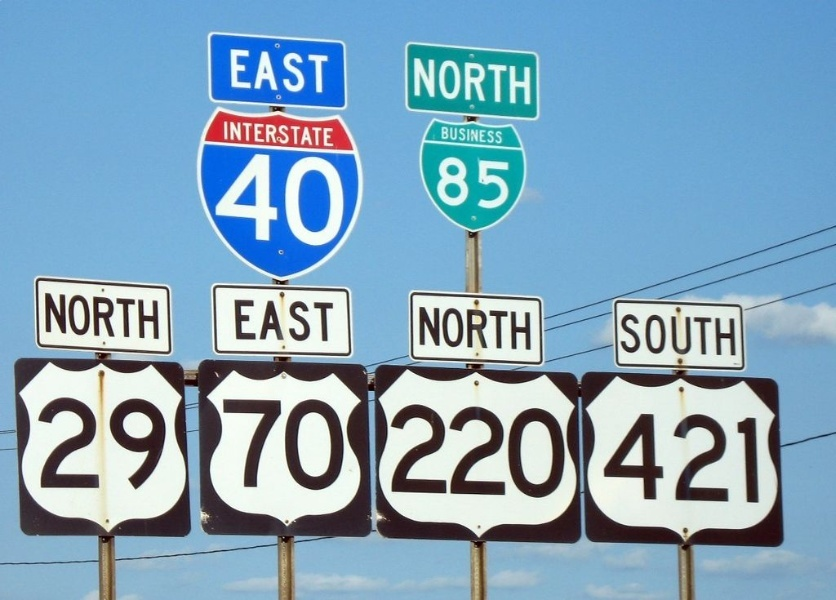text: (225, 151, 240, 249), (241, 151, 256, 249), (257, 151, 272, 249), (273, 151, 288, 249), (289, 151, 304, 249), (305, 151, 320, 249), (321, 151, 336, 249), (401, 403, 416, 498), (417, 403, 432, 498), (433, 403, 448, 498), (449, 403, 464, 498), (465, 403, 480, 498), (481, 403, 496, 498), (497, 403, 512, 498), (513, 403, 528, 498), (529, 403, 544, 498), (545, 403, 560, 498), (49, 396, 64, 489), (65, 396, 80, 489), (81, 396, 96, 489), (97, 396, 112, 489), (113, 396, 128, 489), (129, 396, 144, 489), (145, 396, 160, 489), (225, 398, 240, 490), (241, 398, 256, 490), (257, 398, 272, 490), (273, 398, 288, 490), (289, 398, 304, 490), (305, 398, 320, 490), (321, 398, 336, 490), (609, 412, 624, 503), (625, 412, 640, 503), (641, 412, 656, 503), (657, 412, 672, 503), (673, 412, 688, 503), (689, 412, 704, 503), (705, 412, 720, 503), (721, 412, 736, 503), (737, 412, 752, 503), (37, 396, 48, 489), (390, 403, 400, 498), (215, 151, 224, 249), (449, 156, 464, 209), (465, 156, 480, 209), (481, 156, 496, 209), (497, 156, 512, 209), (337, 151, 345, 249), (417, 58, 432, 106), (433, 58, 448, 106), (449, 58, 464, 106), (465, 58, 480, 106), (481, 58, 496, 106), (497, 58, 512, 106), (513, 58, 528, 106), (49, 293, 64, 340), (65, 293, 80, 340), (81, 293, 96, 340), (97, 293, 112, 340), (113, 293, 128, 340), (129, 293, 144, 340), (241, 48, 256, 94), (257, 48, 272, 94), (273, 48, 288, 94), (289, 48, 304, 94), (305, 48, 320, 94), (241, 298, 256, 342), (257, 298, 272, 342), (273, 298, 288, 342), (289, 298, 304, 342), (305, 298, 320, 342), (433, 306, 448, 350), (449, 306, 464, 350), (465, 306, 480, 350), (481, 306, 496, 350), (497, 306, 512, 350), (513, 306, 528, 350), (625, 312, 640, 356), (641, 312, 656, 356), (657, 312, 672, 356), (673, 312, 688, 356), (689, 312, 704, 356), (705, 312, 720, 356), (721, 312, 736, 356), (145, 293, 159, 340), (337, 398, 344, 490), (437, 156, 448, 209), (321, 298, 334, 342), (419, 306, 432, 350), (753, 412, 759, 503), (161, 396, 166, 489), (230, 48, 240, 94), (225, 120, 240, 147), (241, 120, 256, 147), (257, 120, 272, 147), (273, 120, 288, 147), (289, 120, 304, 147), (305, 120, 320, 147), (561, 403, 565, 498), (321, 48, 329, 94), (321, 120, 334, 147), (449, 125, 464, 144), (465, 125, 480, 144), (481, 125, 496, 144), (605, 412, 608, 503), (234, 298, 240, 342), (620, 312, 624, 356), (413, 58, 416, 106), (45, 293, 48, 340), (441, 125, 448, 144), (497, 125, 503, 144), (529, 58, 531, 106), (223, 398, 224, 490), (529, 306, 531, 350), (223, 120, 224, 147)
